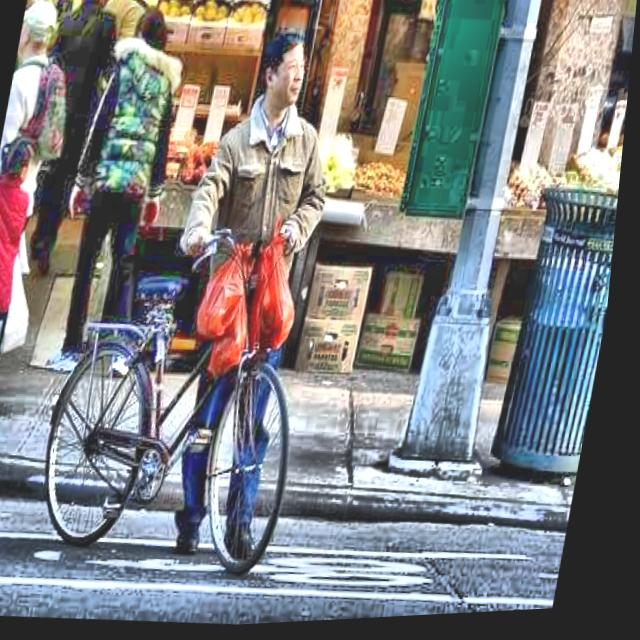Plastic: (246, 219, 325, 359), (199, 231, 260, 335), (208, 289, 271, 382)
